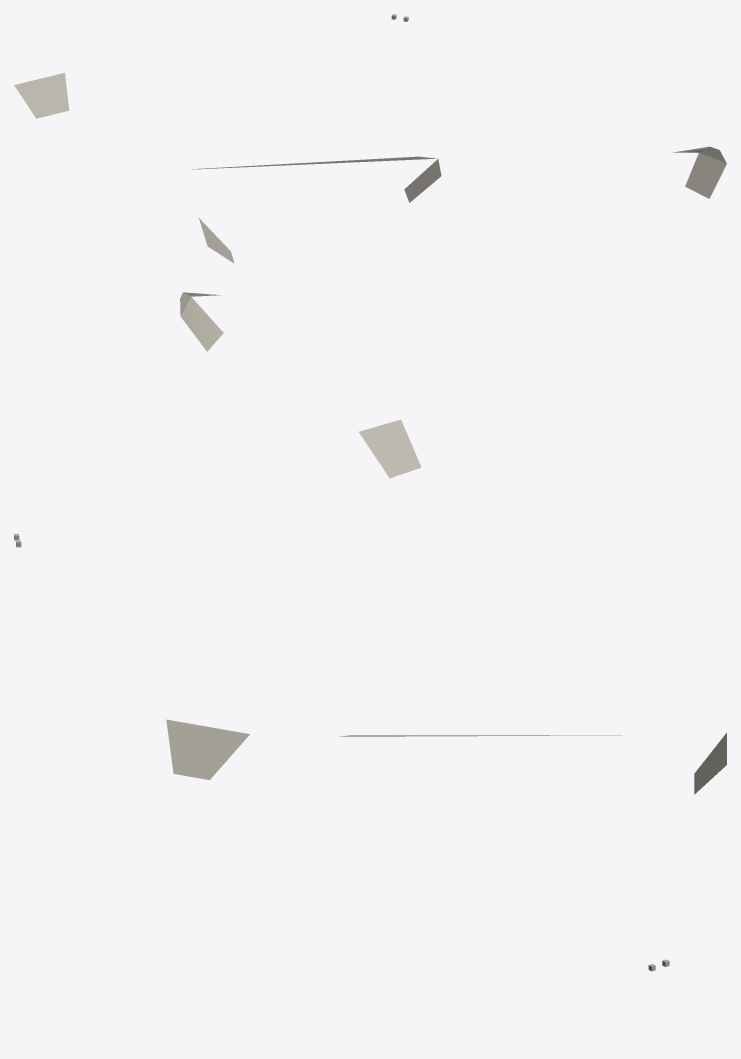
Rendered from kd_stage_13612f_5_11.glb.
The picture shows the model from 3 angles, top to bottom: view 1: azimuth 30°, elevation 25°; view 2: azimuth 150°, elevation 25°; view 3: azimuth 270°, elevation 25°; orthographic projection. The views are drawn at different scales.
Visible parts, largest first — view 1: kd_stage_13612f_5_11; view 2: kd_stage_13612f_5_11; view 3: kd_stage_13612f_5_11.
Boxes of the visible parts, x1,y1,x2,y2 form: kd_stage_13612f_5_11: [14, 14, 726, 263]; kd_stage_13612f_5_11: [14, 292, 421, 547]; kd_stage_13612f_5_11: [166, 719, 726, 971].
Bounding box in the file's own units: 11.18 × 0.8 × 11.09.
Materials: 1 (1 with a texture image).
